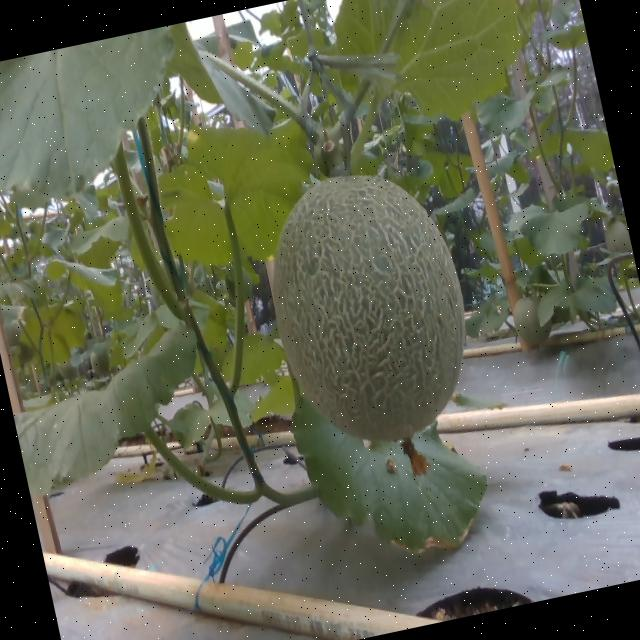melon: (274, 174, 466, 441)
